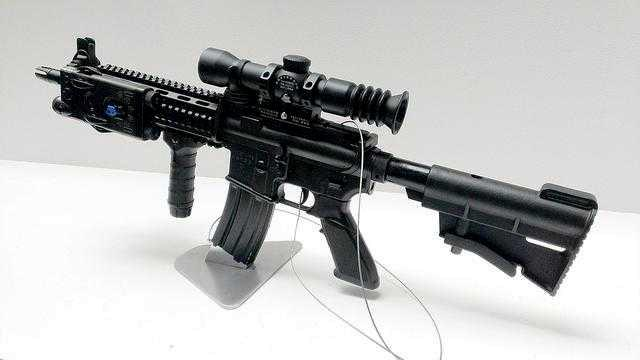rifle: (31, 40, 611, 316)
